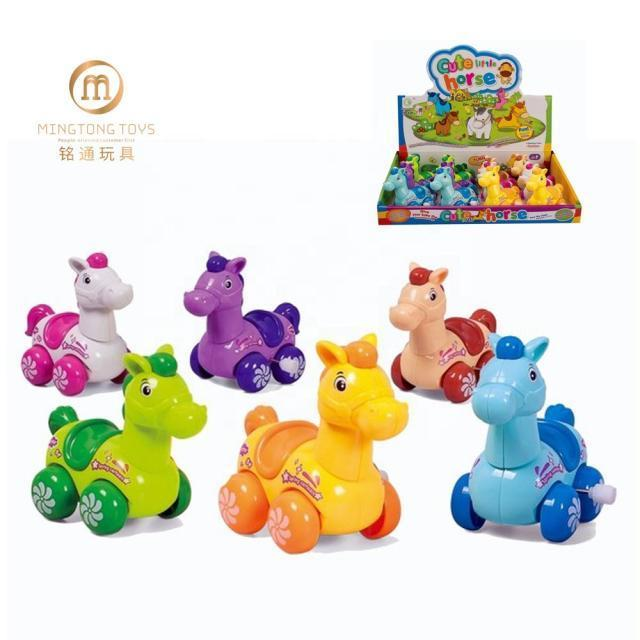hard-toy: (221, 336, 409, 554), (454, 336, 616, 542), (32, 346, 207, 536), (185, 252, 306, 393), (22, 254, 134, 397), (391, 265, 497, 403)
